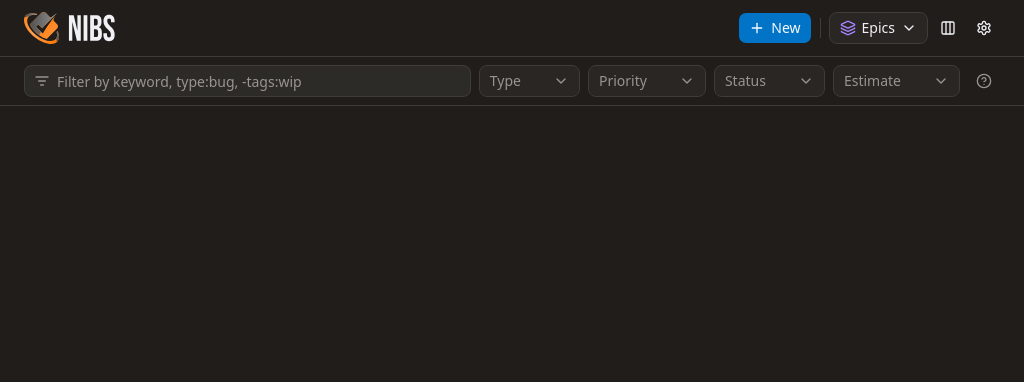
Toolbar › opens Columns dropdown when Columns button is clicked
Click the button named "Columns" at (948, 28), box [932,12,964,44]
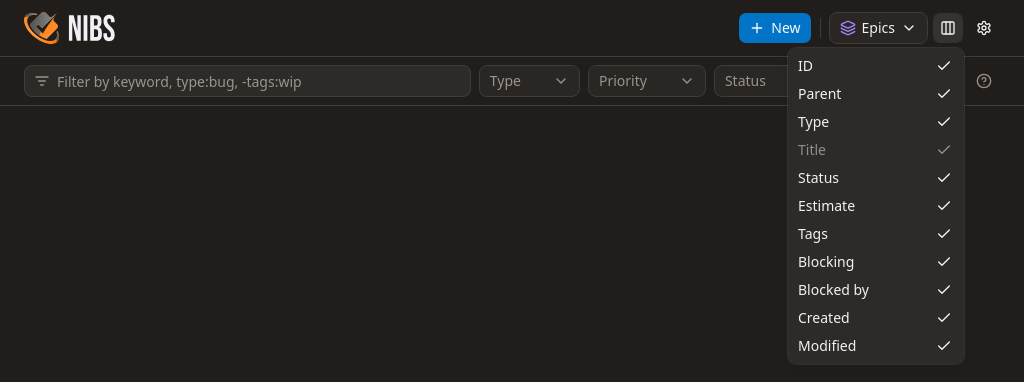
Expected: the menu item "ID" is shown, [792,52,960,80]
Expected: the menu item "Parent" is shown, [792,80,960,108]
Expected: the menu item "Title" is shown, [792,136,960,164]
